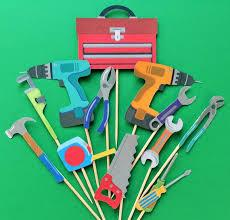wrench: (15, 72, 57, 137), (138, 114, 183, 167)
